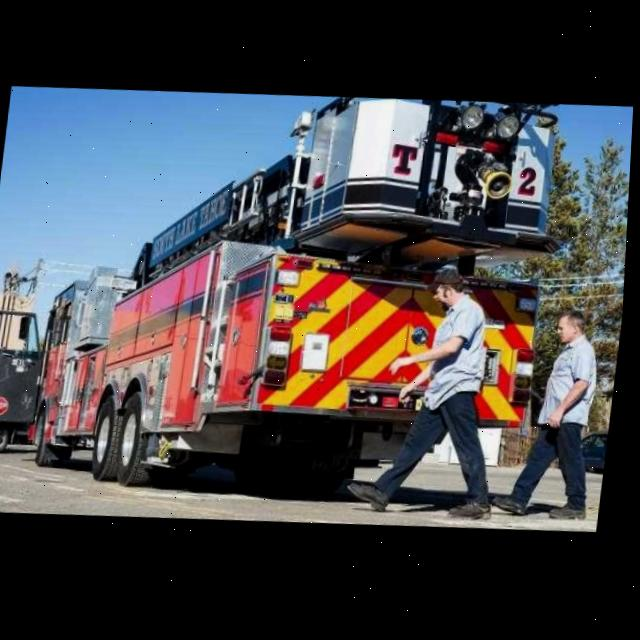emergency: (34, 73, 565, 515)
